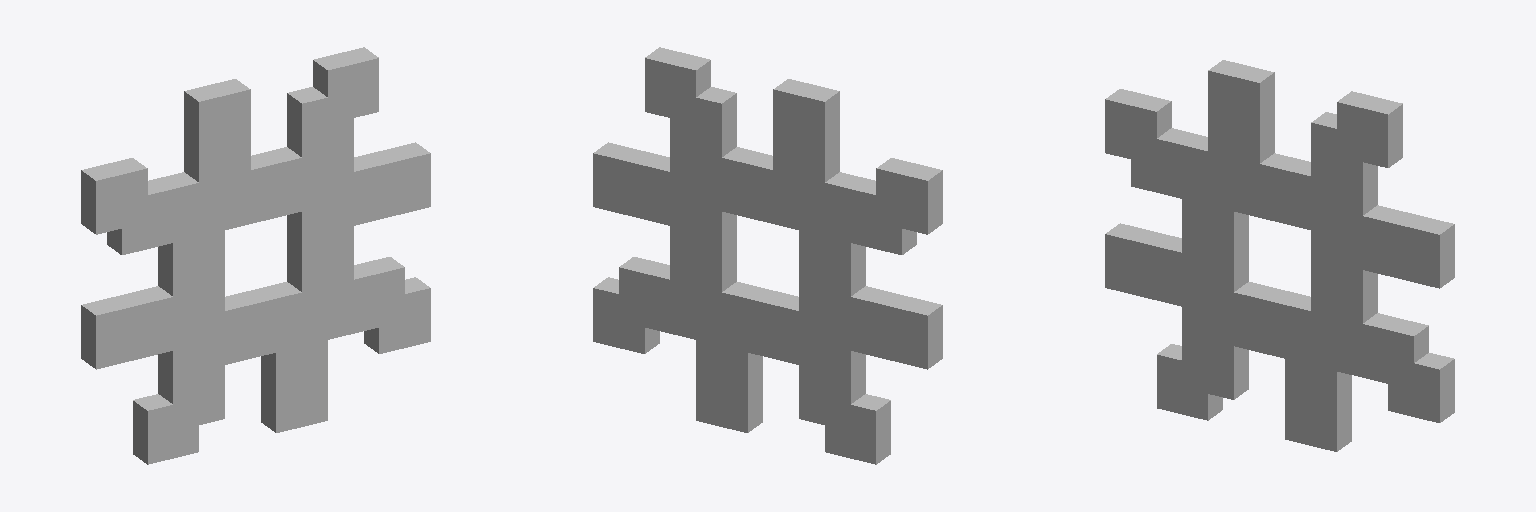
File: gear 3.obj
3 views of the same model, side by side, from view 1: azimuth 30°, elevation 25°; view 2: azimuth 150°, elevation 25°; view 3: azimuth 330°, elevation 25° (orthographic).
Visible parts, largest first — view 1: gear 3; view 2: gear 3; view 3: gear 3.
Part boxes in pixels (x1,y1,x2,y2): gear 3: (81, 47, 430, 464); gear 3: (593, 47, 942, 464); gear 3: (1105, 60, 1454, 451).
Bounding box in the file's own units: 13 × 13 × 1.